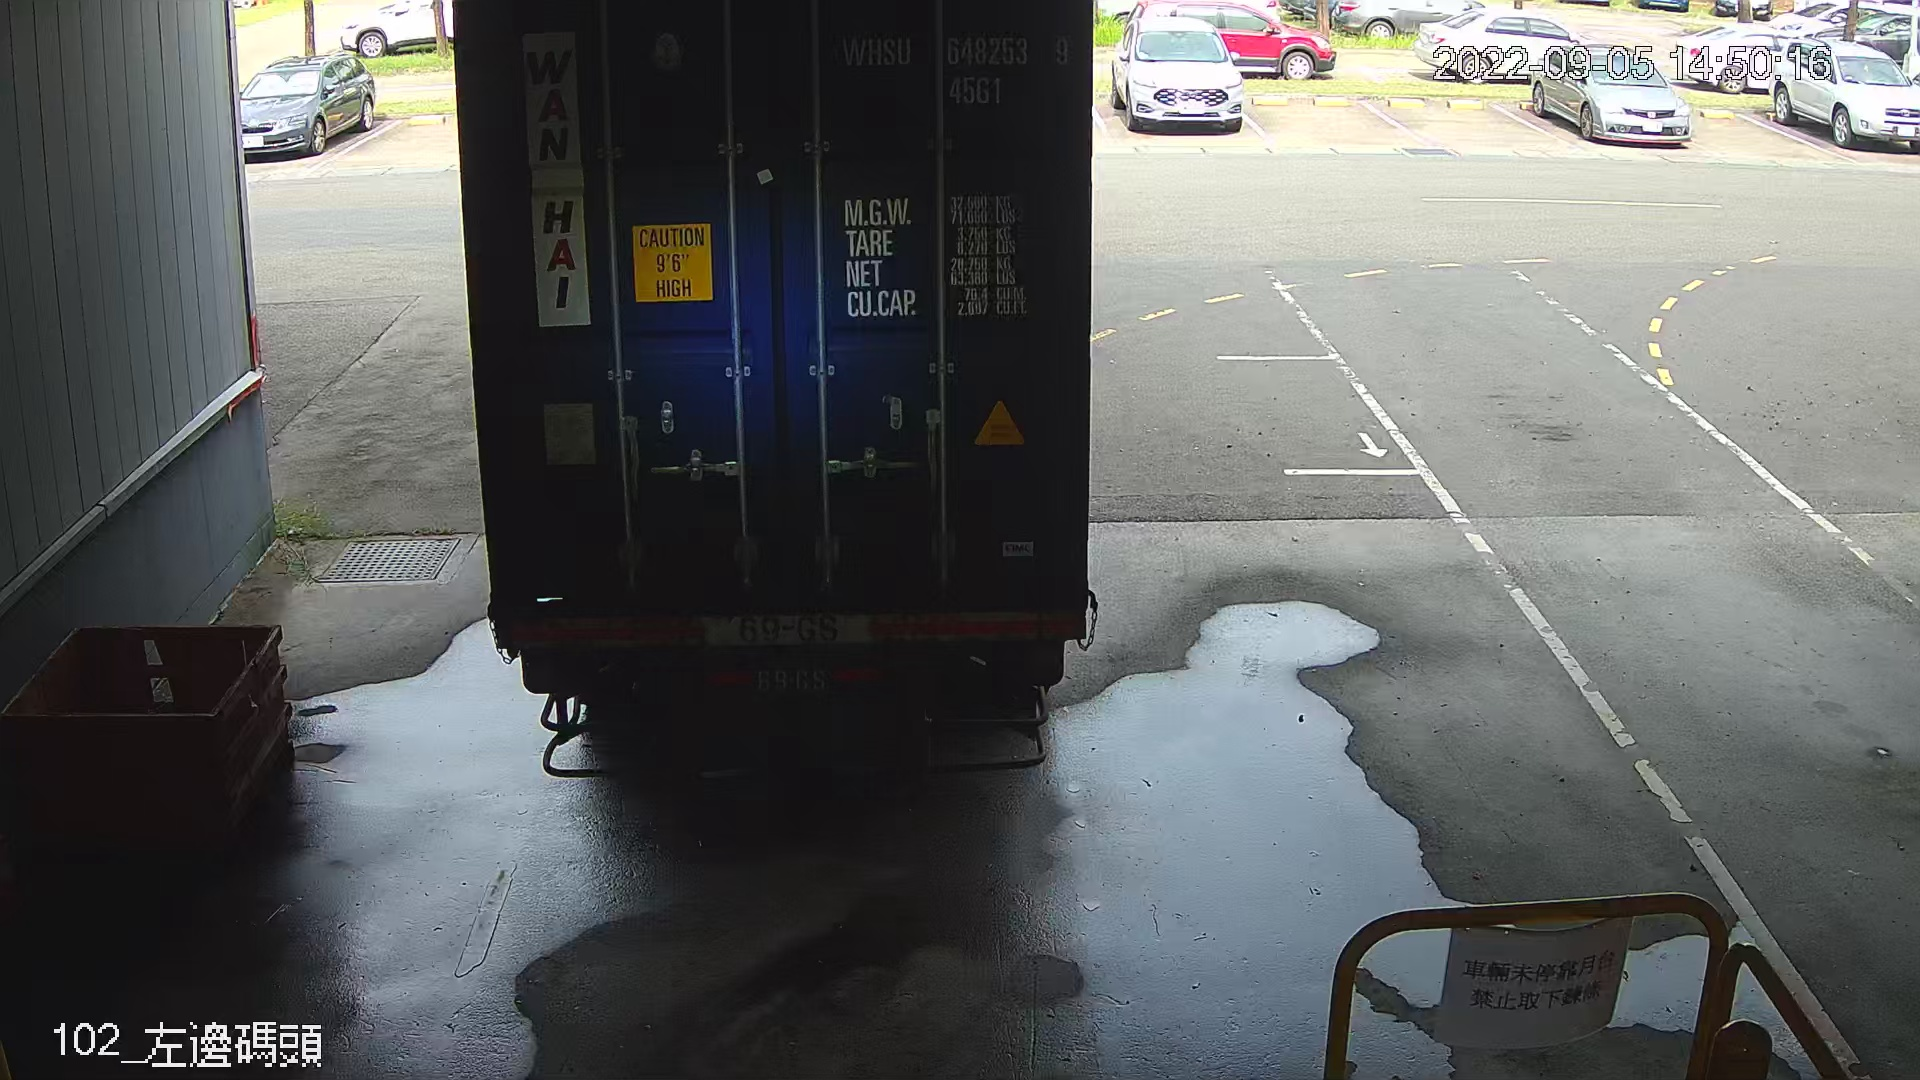container: (833, 22, 1081, 116)
